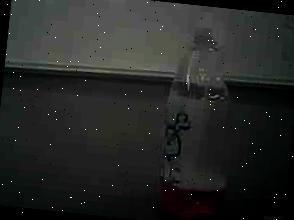hazard: (150, 2, 248, 220)
